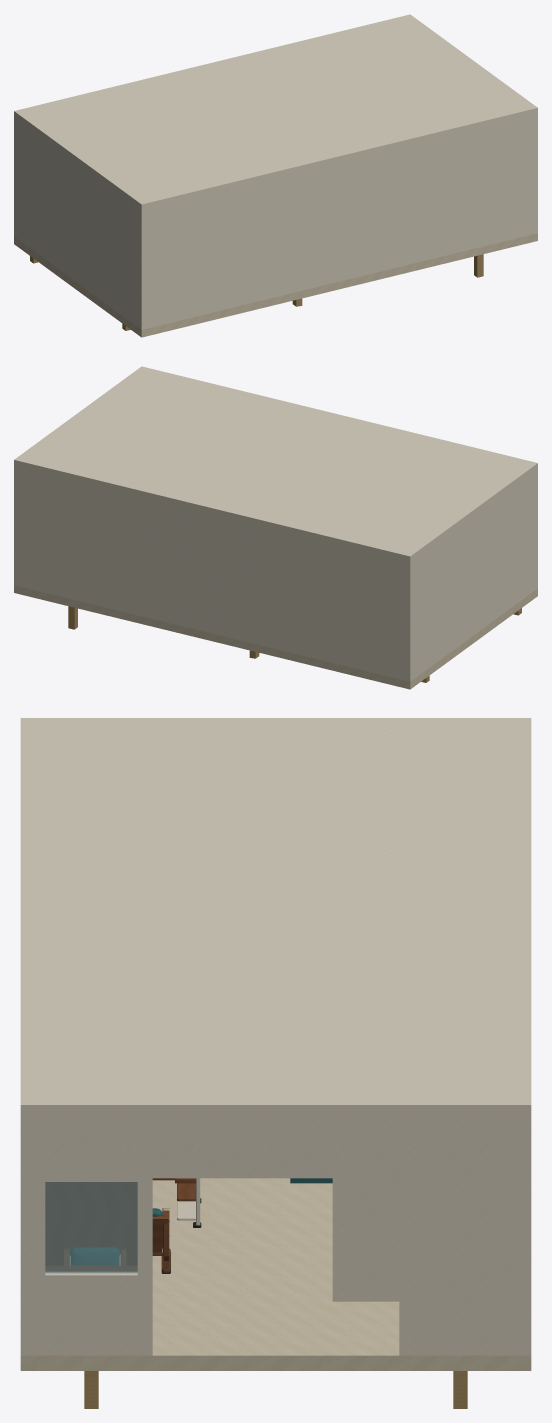
File: StarAtlasSpecialty_431.glb
3 views of the same model, one above another, from view 1: azimuth 30°, elevation 25°; view 2: azimuth 150°, elevation 25°; view 3: azimuth 270°, elevation 25° (orthographic). The views are drawn at different scales.
Parts seen in each view (by area): view 1: SA431_Ceiling, SA431_NorthSide, SA431_OpaqueRearBoundary, SA431_RoomFloor; view 2: SA431_Ceiling, SA431_SouthSide, SA431_OpaqueRearBoundary, SA431_RoomFloor; view 3: SA431_Ceiling, SA431_RoomFloor, SA431_EntryShoulderSouth, SA431_EntryHeader, SA431_StreetWindowLower, SA431_ScreenedStreetGlass, SA431_WashEntrySide, SA431_StreetWindowUpper, SA431_EntryPrivacyDogleg, SA431_NorthSide, SA431_SouthSide, SA431_StreetWindowOuterPier (+2 smaller).
Part boxes in pixels (x1,y1,x2,y2): SA431_Ceiling: (14,14,537,209); SA431_NorthSide: (139,113,537,329); SA431_OpaqueRearBoundary: (16,118,139,327); SA431_RoomFloor: (14,233,537,337); SA431_Ceiling: (14,366,537,561); SA431_SouthSide: (14,465,412,681); SA431_OpaqueRearBoundary: (412,470,535,679); SA431_RoomFloor: (14,585,537,689); SA431_Ceiling: (20,718,531,1115); SA431_RoomFloor: (20,1178,531,1370); SA431_EntryShoulderSouth: (399,1115,522,1355); SA431_EntryHeader: (148,1115,403,1178); SA431_StreetWindowLower: (29,1272,152,1355); SA431_ScreenedStreetGlass: (45,1182,137,1273); SA431_WashEntrySide: (332,1178,399,1301); SA431_StreetWindowUpper: (29,1115,152,1181); SA431_EntryPrivacyDogleg: (45,1182,137,1265); SA431_NorthSide: (20,1115,28,1355); SA431_SouthSide: (523,1115,531,1355); SA431_StreetWindowOuterPier: (29,1182,45,1275).
Bounding box in the file's own units: 12.9 × 5.31 × 7.2.
67 materials, 49 textured.
